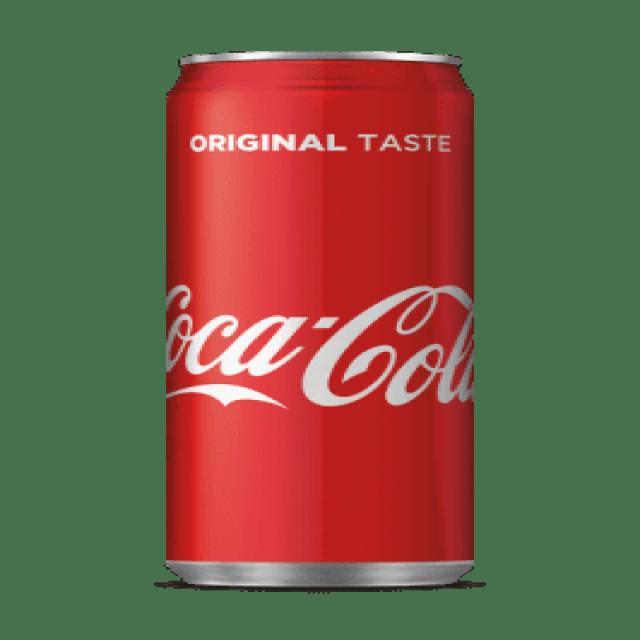cocacola: (151, 49, 490, 607)
